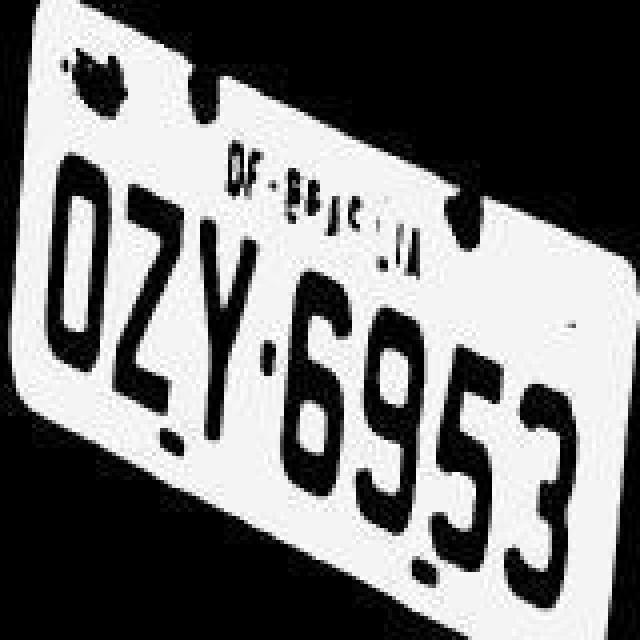3: (502, 378, 578, 614)
5: (424, 326, 504, 570)
6: (274, 262, 350, 506)
9: (358, 294, 426, 538)
O: (40, 144, 120, 384)
Y: (194, 202, 262, 454)
Z: (106, 170, 182, 422)
